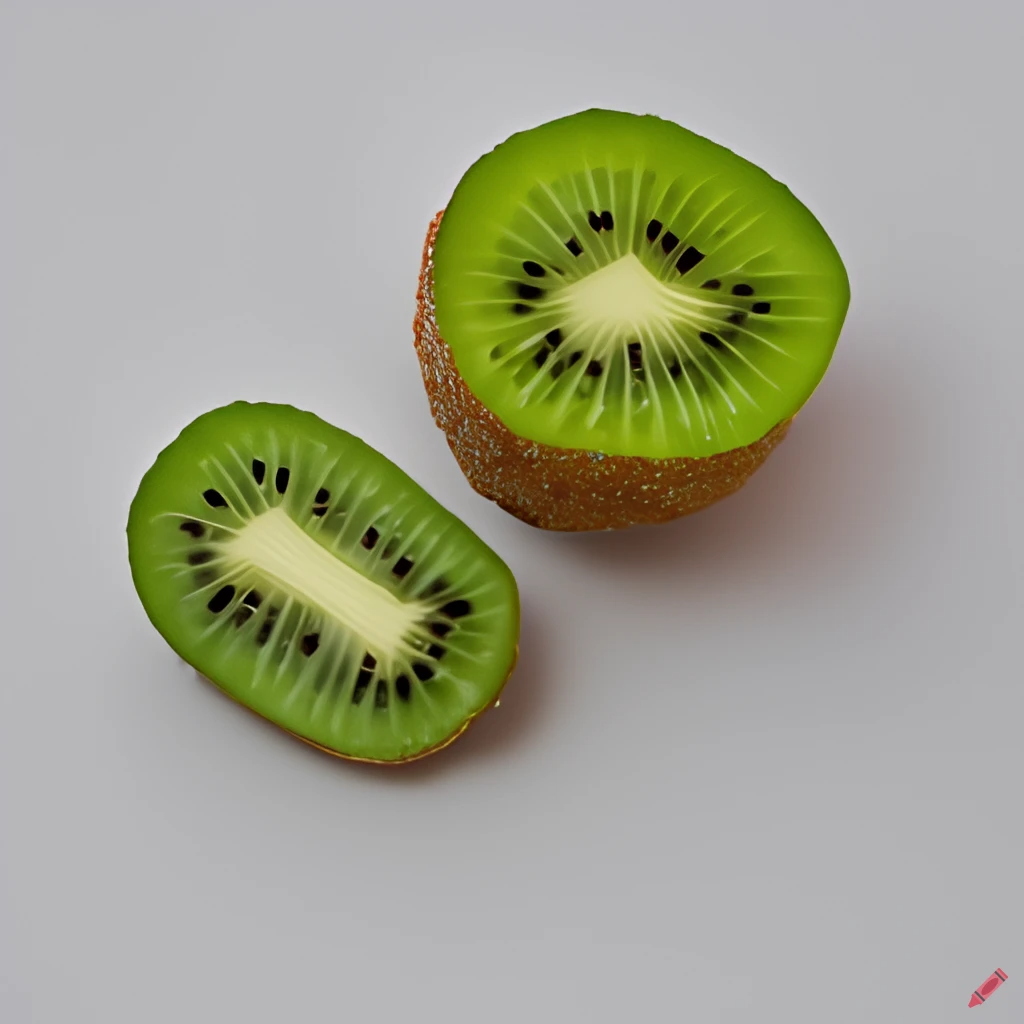Kiwi: (396, 93, 856, 586)
